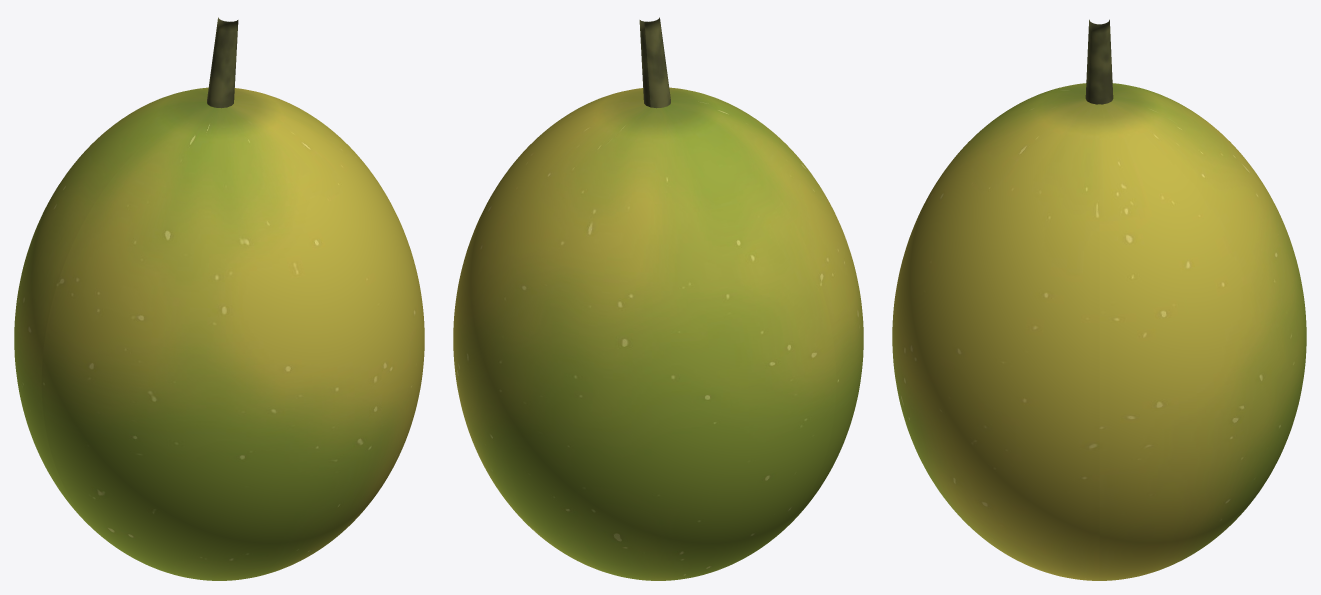
Rendered from evi.glb.
3 views of the same model, side by side, from view 1: azimuth 30°, elevation 25°; view 2: azimuth 150°, elevation 25°; view 3: azimuth 270°, elevation 25° (orthographic).
Visible parts, largest first — view 1: moitie_A_peau, entier_peau, moitie_B_peau, entier_extra0; view 2: moitie_B_peau, entier_peau, moitie_A_peau, entier_extra0; view 3: entier_peau, moitie_A_peau, moitie_B_peau, entier_extra0.
Part boxes in pixels (x1,y1,x2,y2): moitie_A_peau: (41,97,424,580); entier_peau: (14,87,424,580); moitie_B_peau: (14,88,311,536); entier_extra0: (207,17,238,108); moitie_B_peau: (453,97,836,580); entier_peau: (453,87,863,580); moitie_A_peau: (566,88,863,536); entier_extra0: (639,17,670,108); entier_peau: (892,83,1306,580); moitie_A_peau: (892,83,1099,580); moitie_B_peau: (1099,83,1306,580); entier_extra0: (1085,19,1113,104).
Size of the model in its own units: 0.064 by 0.0941 by 0.064.
Materials: 3 (3 with a texture image).
